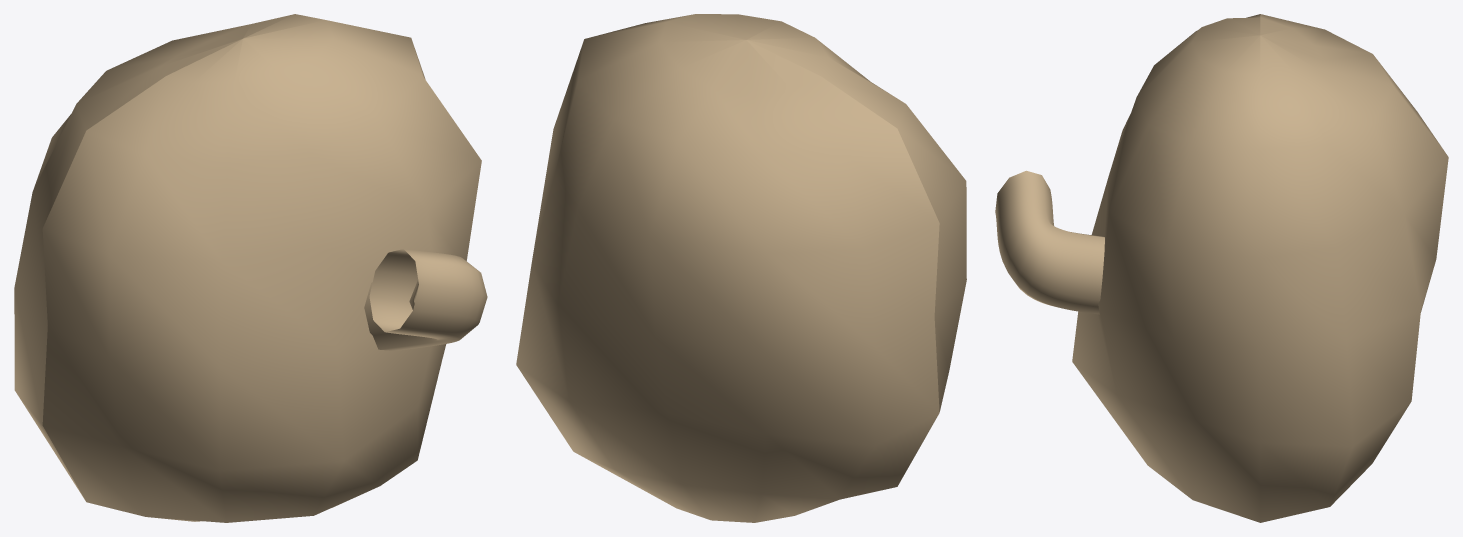
Rendered from left_hamate.glb.
The picture shows the model from 3 angles, left to right: view 1: azimuth 30°, elevation 25°; view 2: azimuth 150°, elevation 25°; view 3: azimuth 270°, elevation 25°; orthographic projection. The views are drawn at different scales.
Parts seen in each view (by area): view 1: left_hamate:body, left_hamate:hook; view 2: left_hamate:body; view 3: left_hamate:body, left_hamate:hook.
Boxes of the visible parts, x1,y1,x2,y2 form: left_hamate:body: [14, 14, 481, 522]; left_hamate:hook: [364, 249, 487, 350]; left_hamate:body: [516, 14, 966, 522]; left_hamate:body: [1072, 14, 1448, 522]; left_hamate:hook: [995, 170, 1104, 314].
Bounding box in the file's own units: 0.0987 × 0.1128 × 0.1034.
